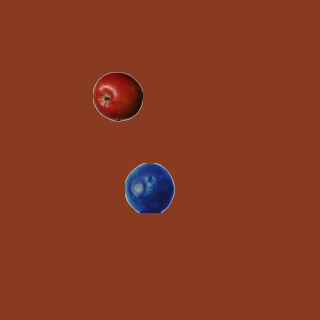Apple Braeburn: (92, 71, 142, 121)
Huckleberry: (124, 162, 174, 212)
